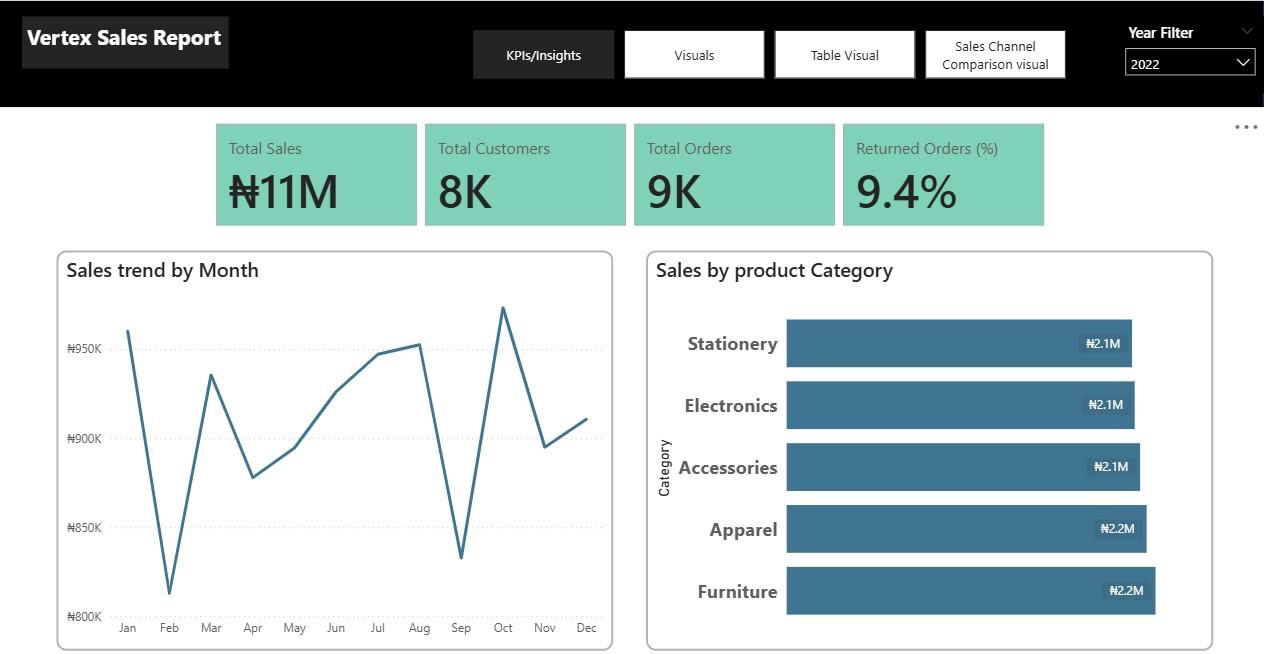

This screenshot's page, from the dashboard's own definition file:
{"tool":"powerbi","page":{"name":"KPIs/Insights","canvas":[1280,720],"ordinal":0},"visuals":[{"type":"shape","box":[0,0,1279.5,109],"z":0},{"type":"cardVisual","fields":{"Data":["_measures.Total Sales","_measures.Total Customers","_measures.Total Orders","_measures.Returned Orders (%)"]},"box":[215,119.6,849.5,113.6],"z":1000},{"type":"lineChart","title":"Sales trend by Month","fields":{"Y":["Sum(Sales.Sales Amount)"],"Category":["Date Table.Month Name"]},"box":[59.1,252.9,561.8,404.3],"z":2000},{"type":"barChart","title":"Sales by product Category","fields":{"Category":["Sales.Category"],"Y":["Sum(Sales.Profit)"]},"box":[654.1,252.9,572.4,404.3],"z":3000},{"type":"slicer","fields":{"Values":["Date Table.Year"]},"box":[1128.1,16.7,151.4,77.2],"z":4000},{"type":"pageNavigator","box":[480,30.3,599.6,50],"z":5000},{"type":"textbox","box":[24.2,16.7,209,53],"z":6000}]}

Visuals, with their boxes on the page's 1280x720 design canvas (x1, y1, x2, y2). These are canvas units, not pixel positions in the 1264x654 screenshot, which may show the page scaled, cropped or inside an application window:
shape: {"left": 0, "top": 0, "right": 1280, "bottom": 109}
cardVisual - _measures.Total Sales x _measures.Total Customers: {"left": 215, "top": 120, "right": 1064, "bottom": 233}
"Sales trend by Month" lineChart: {"left": 59, "top": 253, "right": 621, "bottom": 657}
"Sales by product Category" barChart: {"left": 654, "top": 253, "right": 1226, "bottom": 657}
slicer - Date Table.Year: {"left": 1128, "top": 17, "right": 1280, "bottom": 94}
pageNavigator: {"left": 480, "top": 30, "right": 1080, "bottom": 80}
textbox: {"left": 24, "top": 17, "right": 233, "bottom": 70}
